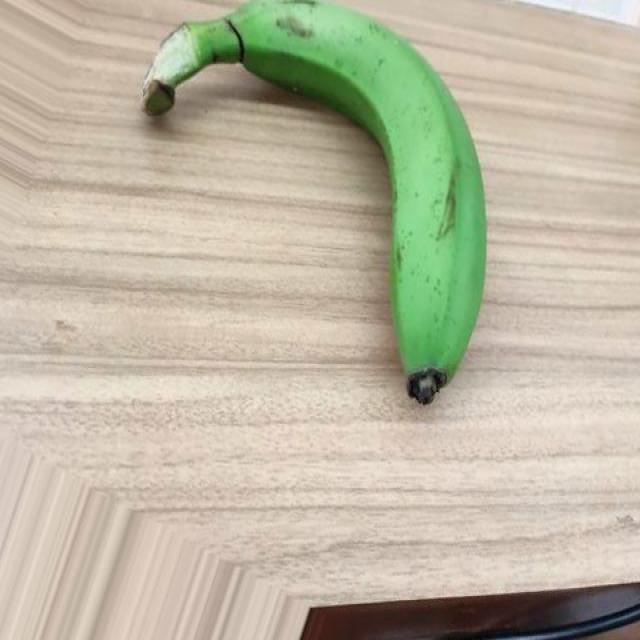Unripe: (142, 0, 488, 405)
